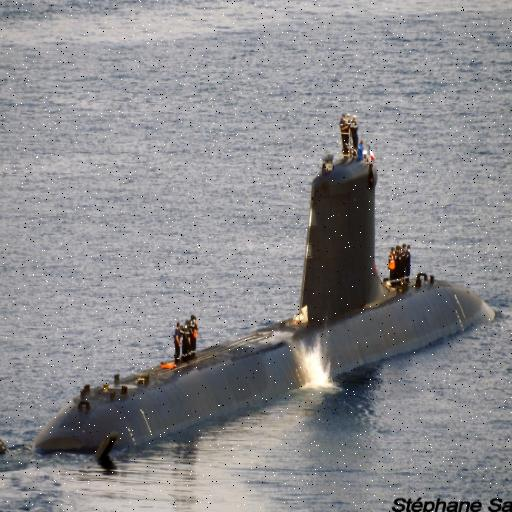submarine: (1, 159, 506, 469)
